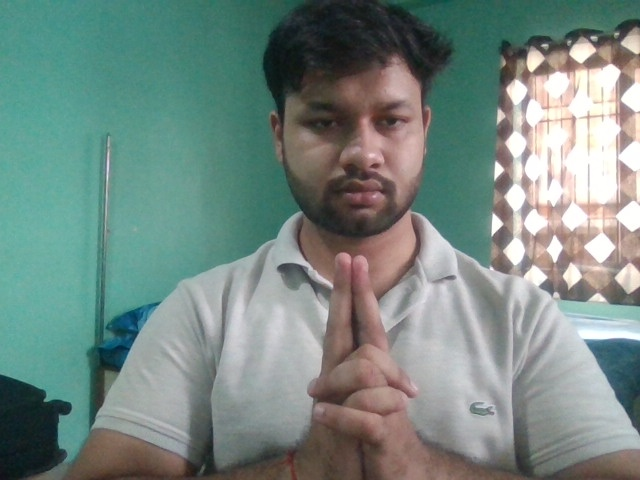1000 Years of Death: (292, 247, 439, 480)
